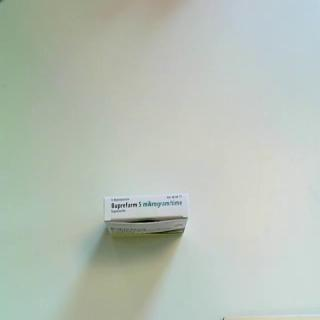buprefarm5ug_hour: (102, 192, 190, 242)
